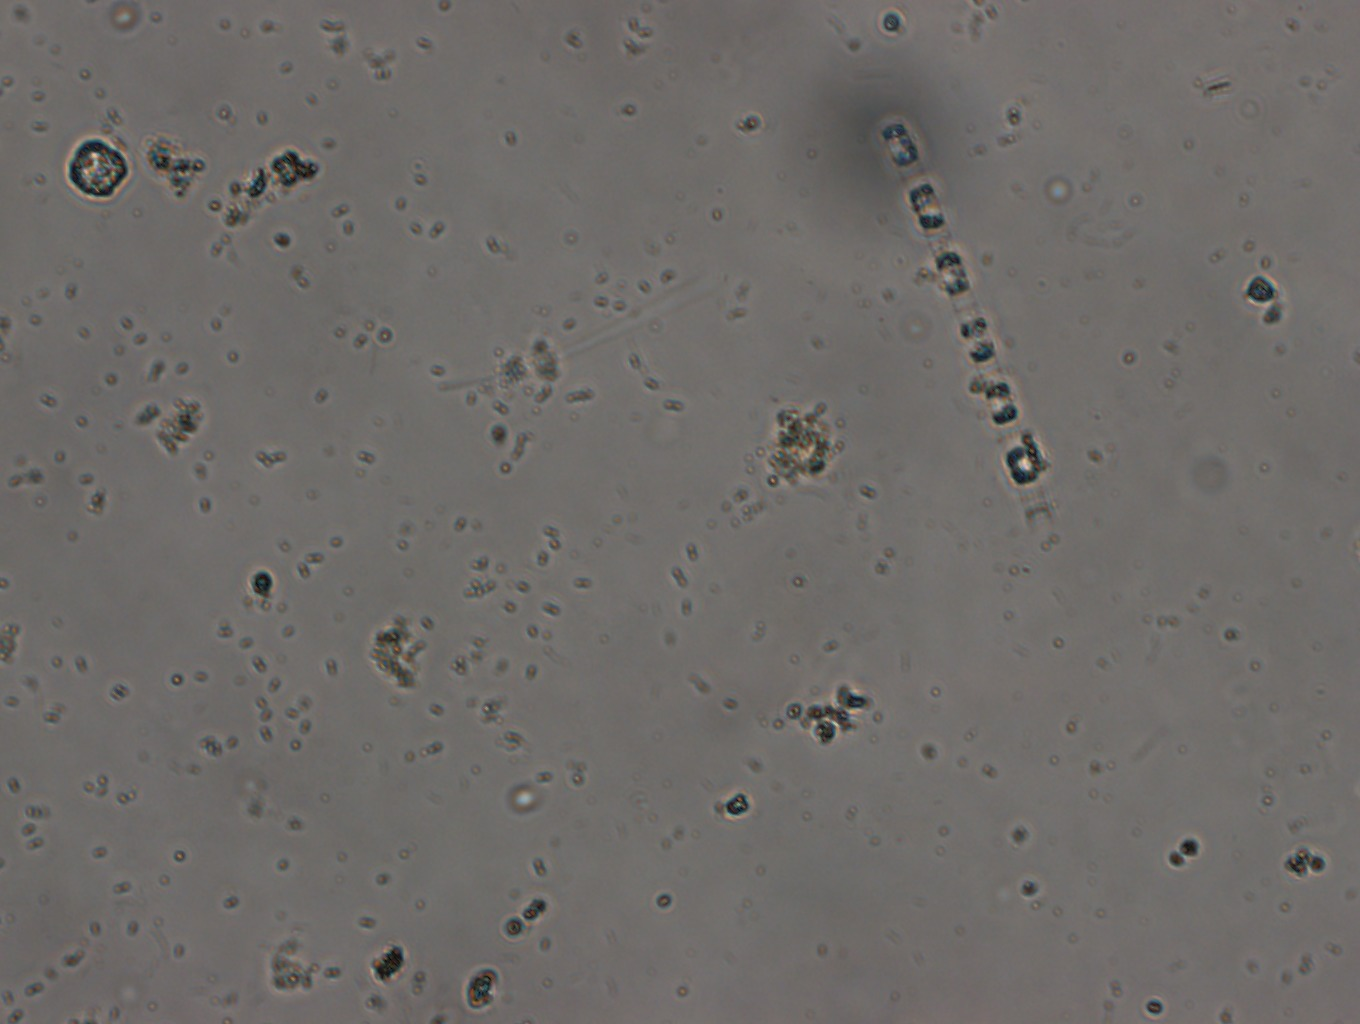skeletonema: (881, 118, 1053, 530)
